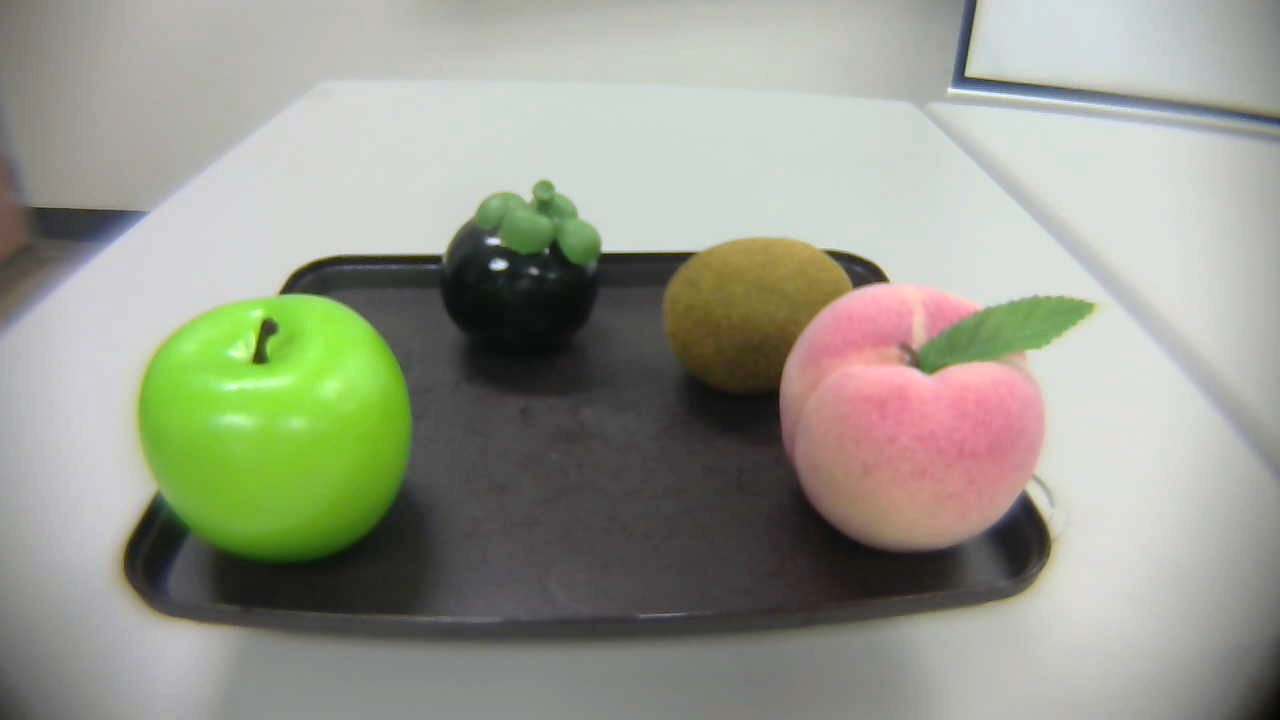green apple: (133, 289, 418, 569)
kiwi fruit: (658, 237, 858, 391)
mangosteen: (427, 168, 622, 375)
peach: (775, 283, 1107, 569)
